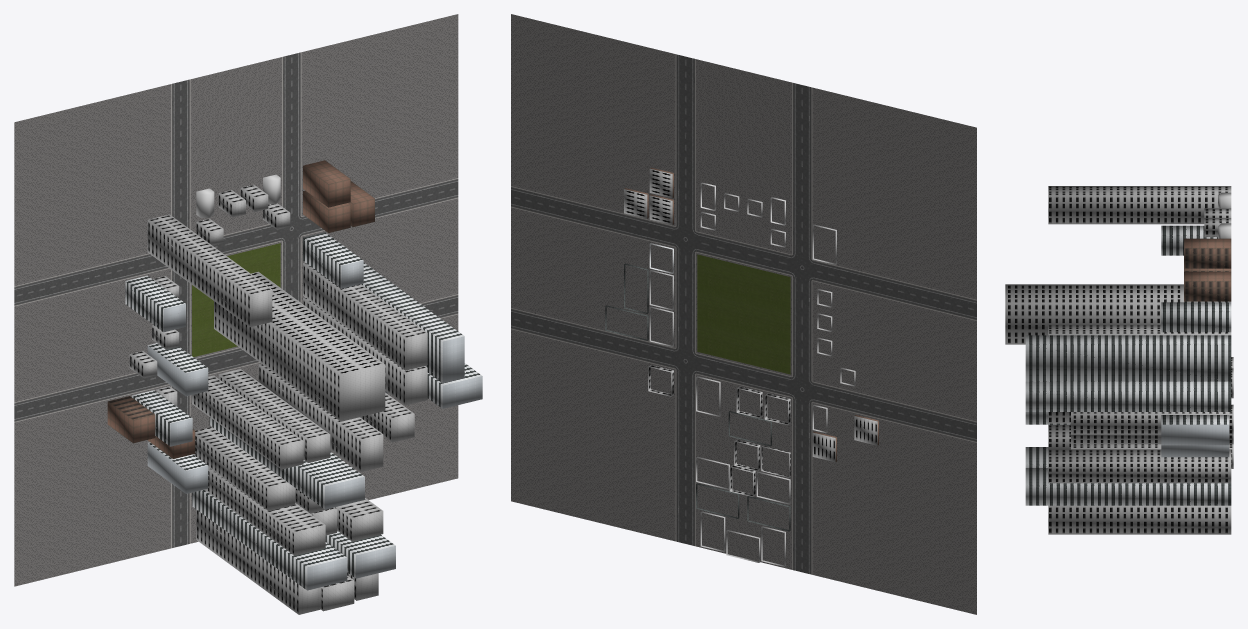
Rendered from stage-0-2.fbx.
3 renders of one model, left to right at view 1: azimuth 30°, elevation 25°; view 2: azimuth 150°, elevation 25°; view 3: azimuth 270°, elevation 25°, orthographic. The views are drawn at different scales.
Visible parts, largest first — view 1: Ground; view 2: Ground; view 3: Ground.
Part boxes in pixels (x1=…): Ground: x1=14, y1=14, x2=482, y2=614; Ground: x1=511, y1=14, x2=976, y2=614; Ground: x1=1005, y1=186, x2=1233, y2=534.
Size of the model in its own units: 200 by 200 by 101.
Materials: 17 (16 with a texture image).
